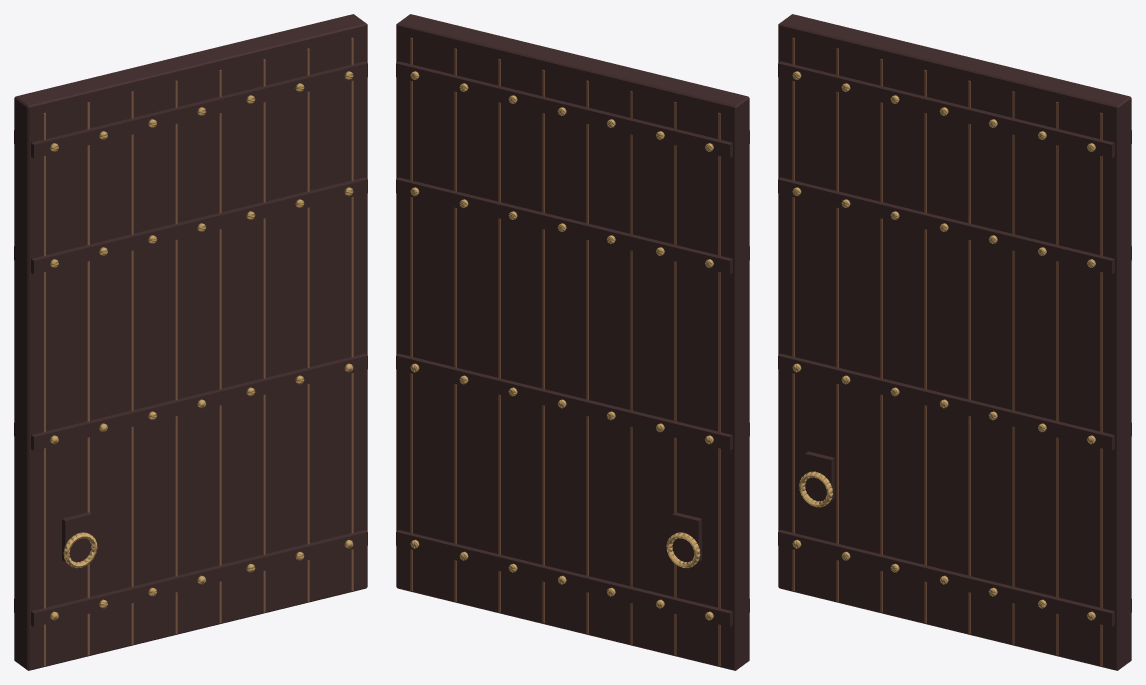
Rendered from gate_leaf_right.glb.
The picture shows the model from 3 angles, left to right: view 1: azimuth 30°, elevation 25°; view 2: azimuth 150°, elevation 25°; view 3: azimuth 330°, elevation 25°; orthographic projection.
Parts seen in each view (by area): view 1: RightLeaf_Timber, RightLeaf_Cedar, RightLeaf_Bronze; view 2: RightLeaf_Timber, RightLeaf_Cedar, RightLeaf_Bronze; view 3: RightLeaf_Timber, RightLeaf_Cedar, RightLeaf_Bronze.
Part boxes in pixels (left/top/right/bottom): RightLeaf_Timber: left=14, top=14, right=367, bottom=670; RightLeaf_Cedar: left=43, top=37, right=353, bottom=666; RightLeaf_Bronze: left=50, top=71, right=353, bottom=620; RightLeaf_Timber: left=396, top=14, right=749, bottom=670; RightLeaf_Cedar: left=410, top=37, right=720, bottom=666; RightLeaf_Bronze: left=410, top=71, right=713, bottom=620; RightLeaf_Timber: left=778, top=14, right=1131, bottom=670; RightLeaf_Cedar: left=792, top=37, right=1102, bottom=666; RightLeaf_Bronze: left=792, top=71, right=1095, bottom=620.
Size of the model in its own units: 4.15 by 6.58 by 0.664.
